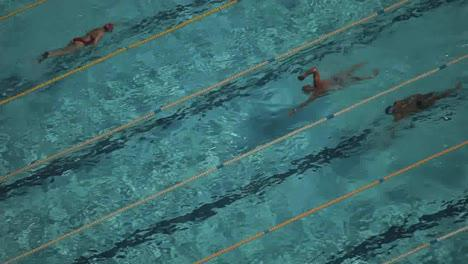swimmer: (288, 59, 380, 117), (384, 79, 462, 123), (37, 20, 114, 63)
